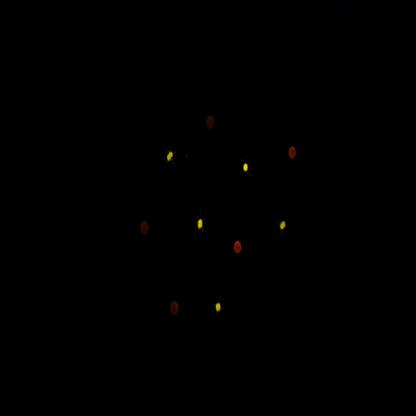PE: (209, 293, 227, 325), (161, 143, 179, 174), (193, 213, 208, 241), (275, 215, 291, 241), (240, 157, 252, 180)
PS: (167, 291, 184, 326), (135, 215, 154, 245), (287, 136, 302, 170), (205, 108, 220, 140), (233, 232, 246, 262)
